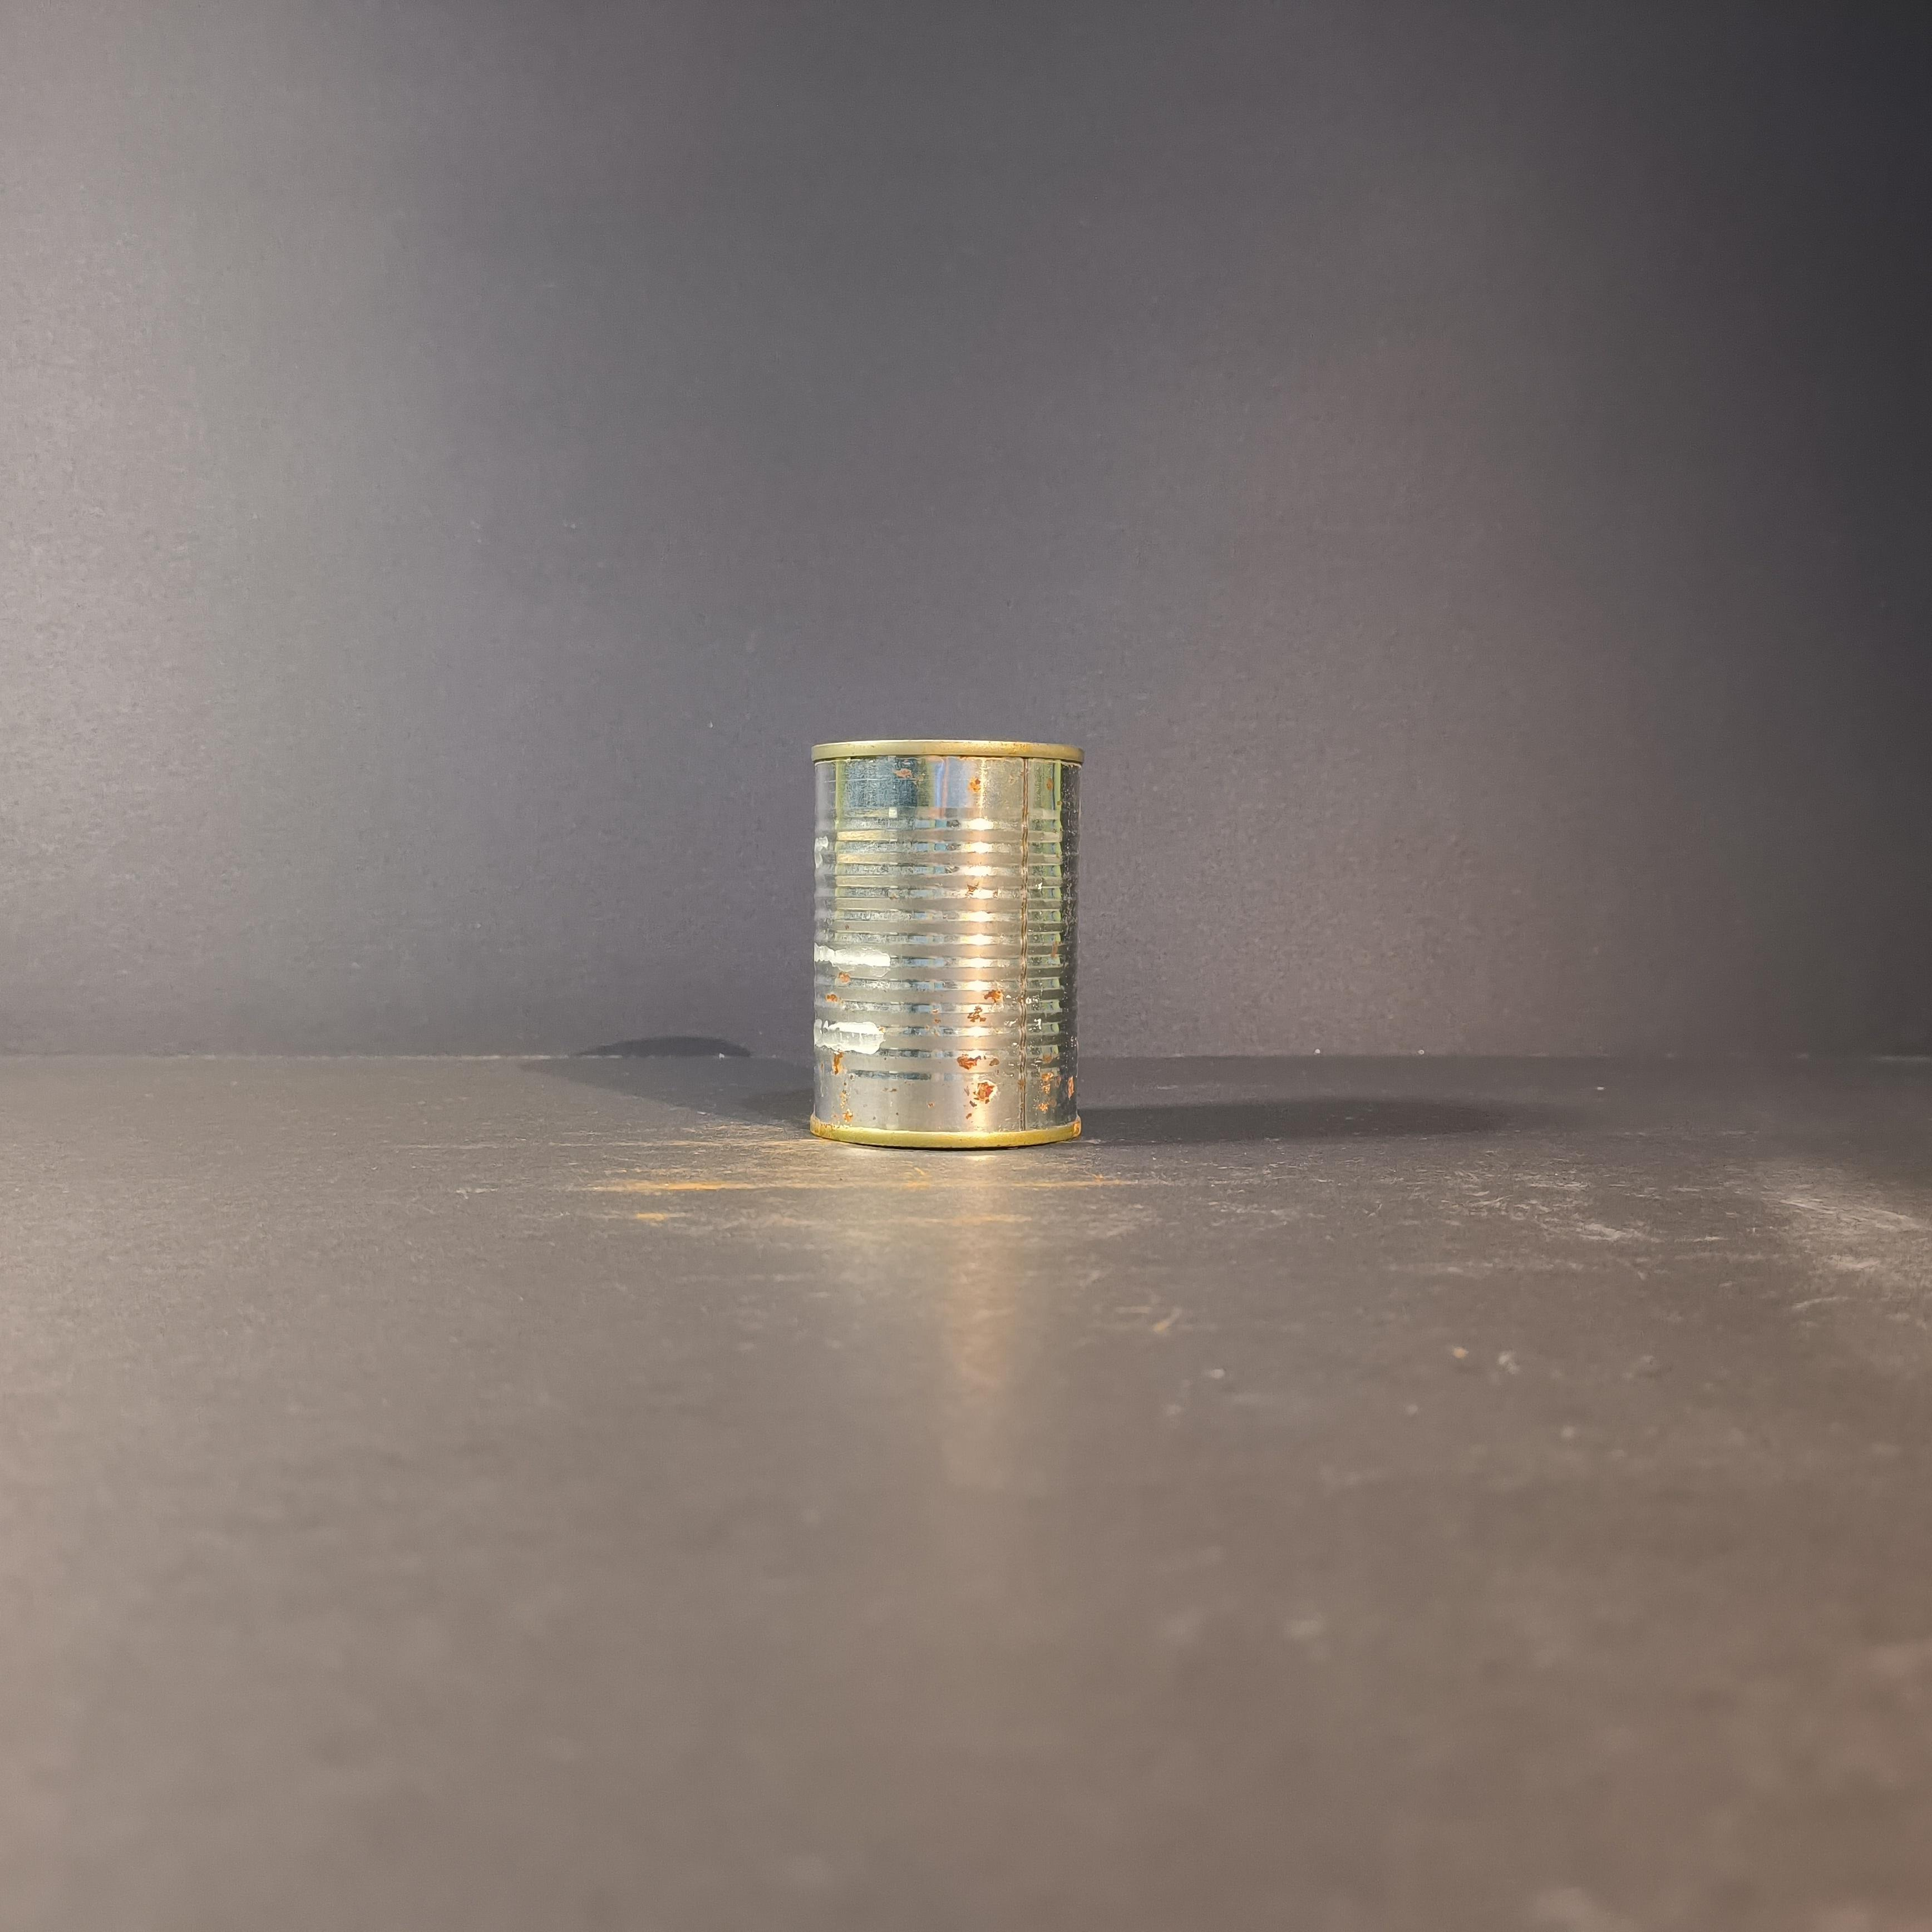Rusted: (801, 725, 1104, 1162)
